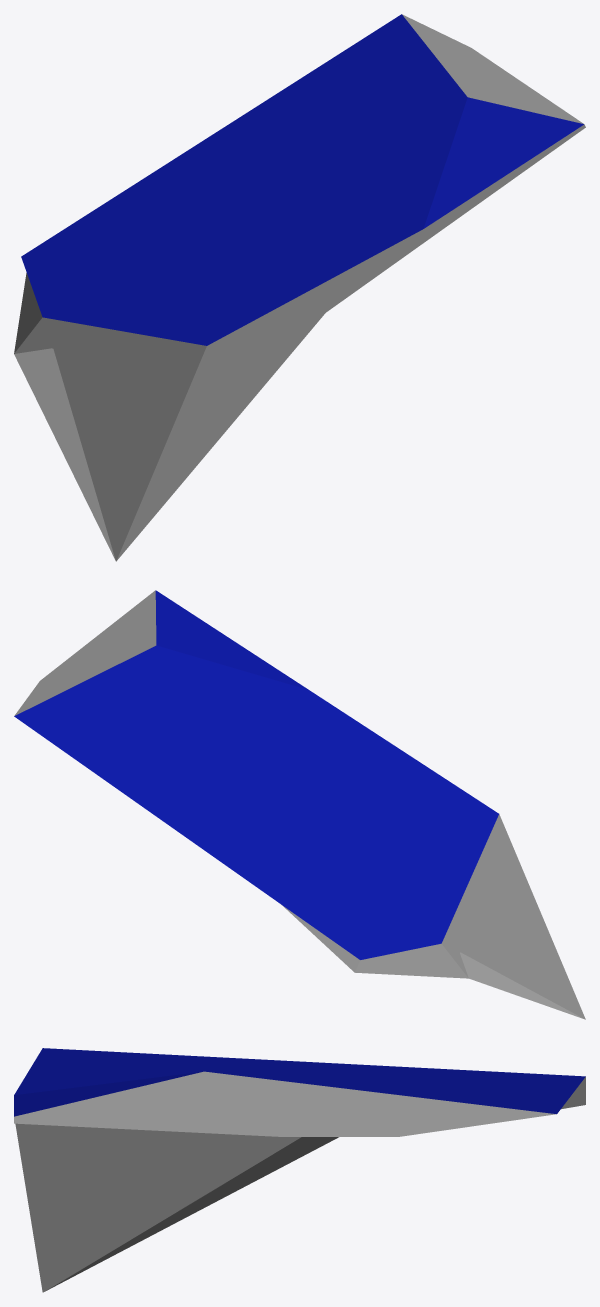
File: debris1.obj
3 renders of one model, top to bottom at view 1: azimuth 30°, elevation 25°; view 2: azimuth 150°, elevation 25°; view 3: azimuth 270°, elevation 25°, orthographic. The views are drawn at different scales.
Parts seen in each view (by area): view 1: Cube; view 2: Cube; view 3: Cube.
Boxes of the visible parts, x1,y1,x2,y2 form: Cube: [14, 14, 585, 561]; Cube: [14, 590, 585, 1019]; Cube: [14, 1048, 585, 1292].
Bounding box in the file's own units: 0.6138 × 0.4196 × 0.4.
